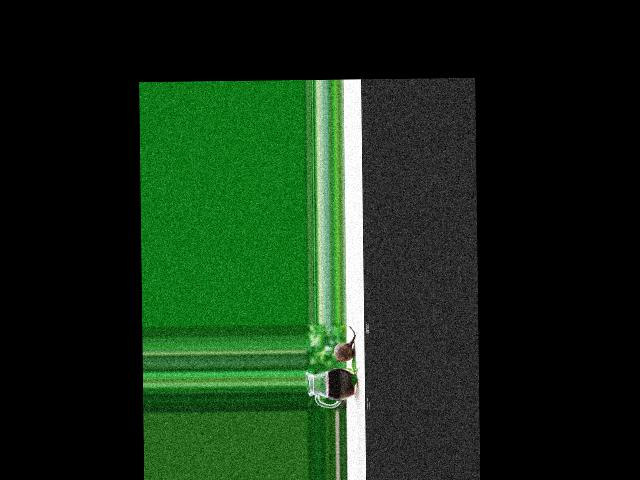beet: (333, 326, 356, 362)
